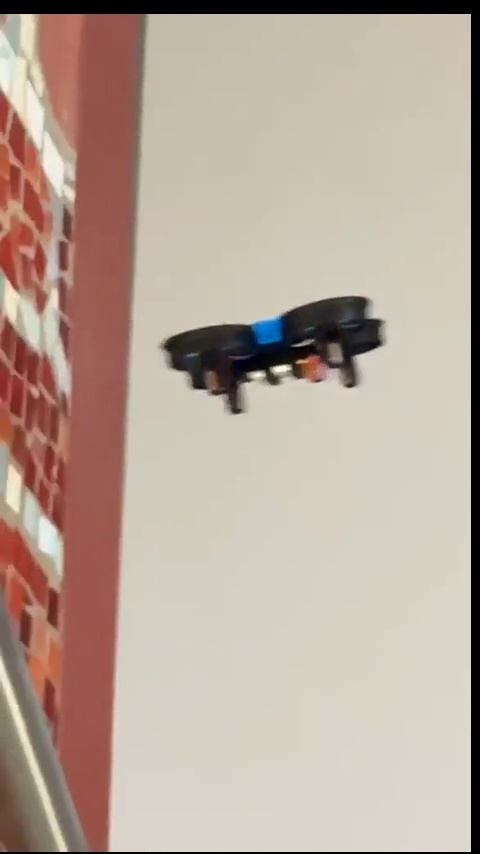drone: (161, 293, 386, 411)
